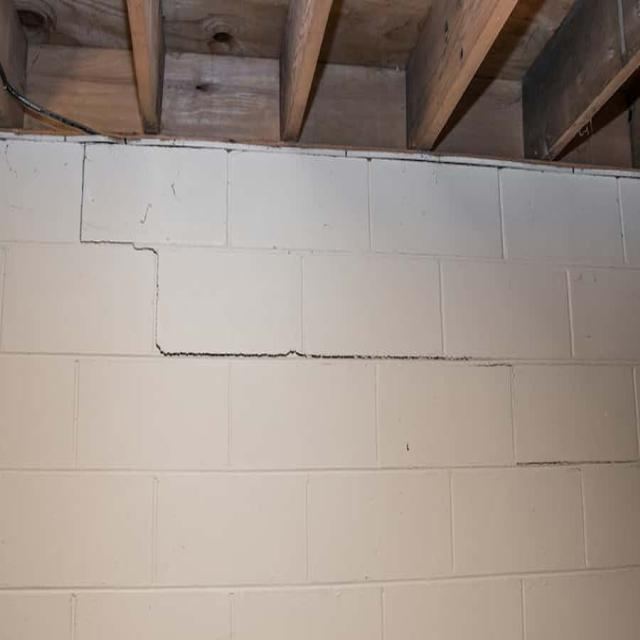Crack: (76, 137, 640, 470)
